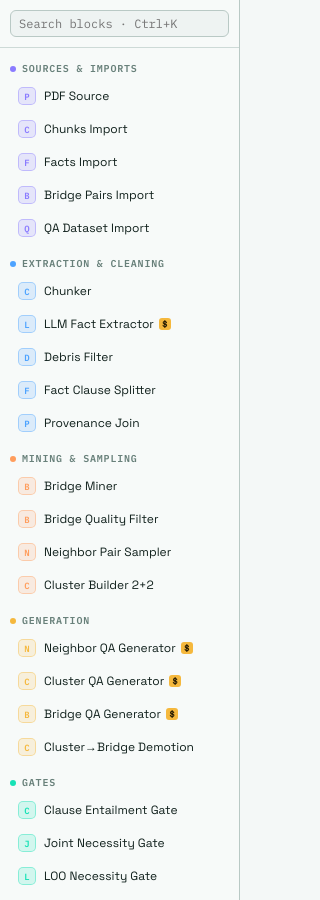
Scenario: Palette › shows an empty message when no block matches the query
This screenshot has width=320, height=900.
Type "zzz-does-not-exist" into the search field labelled "Search blocks".
click(120, 24); type("zzz-does-not-exist")  # box [10,10,229,37]
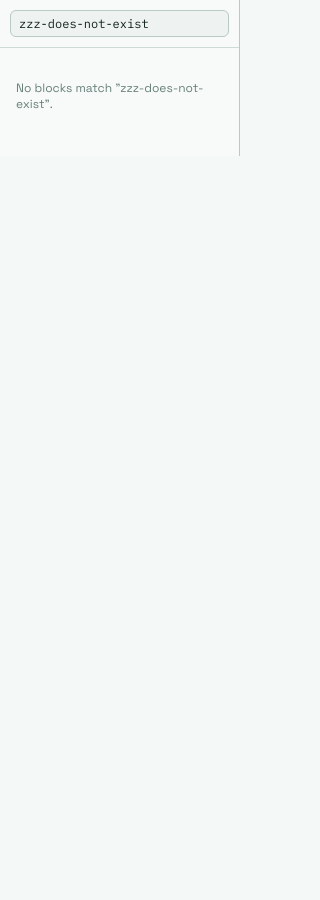
Expected: the text "No blocks match \"zzz-does-not-exist\"." is shown, [16,80,204,112]
